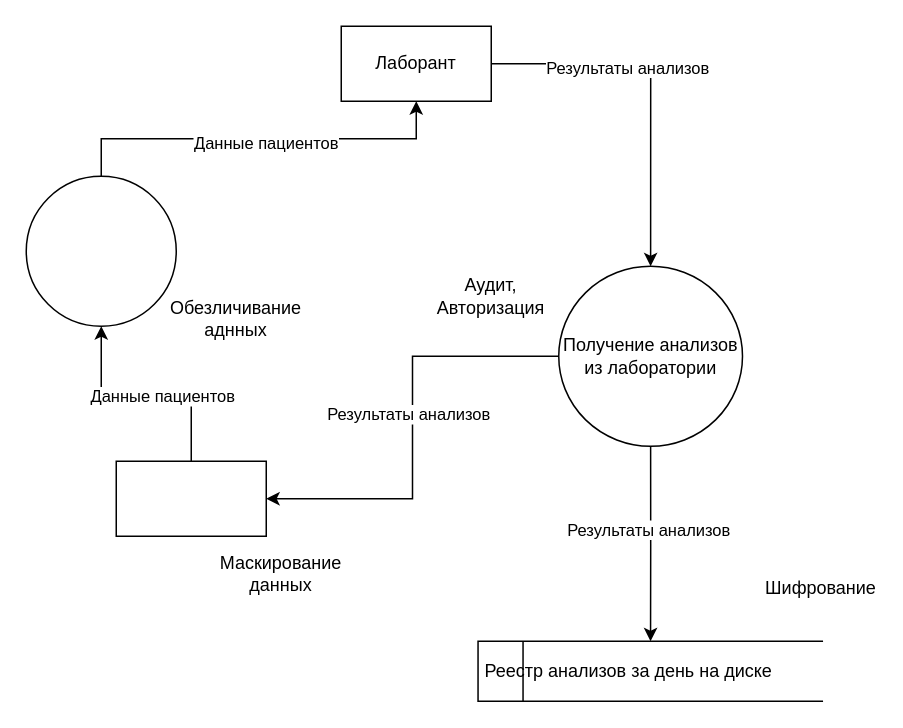
The diagram is 903 pixels wide and 728 high, and some of its shapes have lost their labels. The shapes that lost their labels are listed below. From the top down, each one's centre as x and y in pixels, then its label:
point (100, 250): Передача биоматериалов и данных пациентов для проведения анализа
point (190, 498): Администратор?
